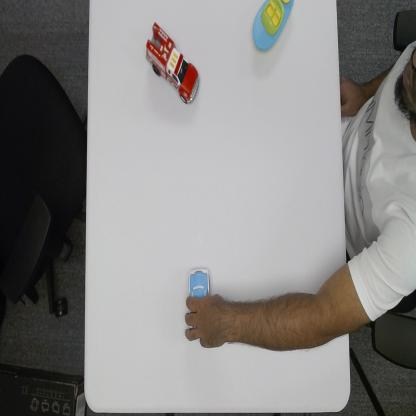Arm: (232, 299, 358, 354)
Boat: (246, 0, 295, 51)
Car: (186, 260, 215, 298)
Firetruck: (144, 16, 201, 104)
Hand: (183, 298, 230, 350)
